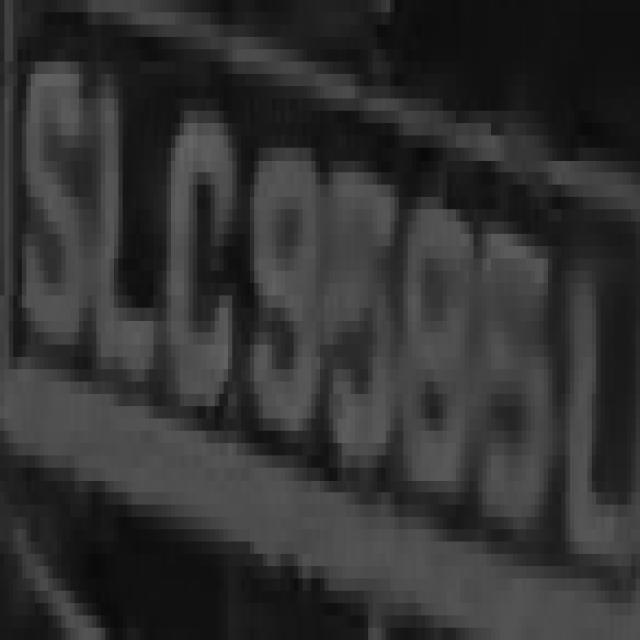5: (333, 98, 408, 517), (473, 197, 552, 578)
8: (390, 135, 474, 492)
9: (232, 98, 320, 480)
C: (158, 74, 245, 455)
L: (552, 234, 640, 615), (96, 37, 166, 418)
S: (18, 24, 88, 382)
